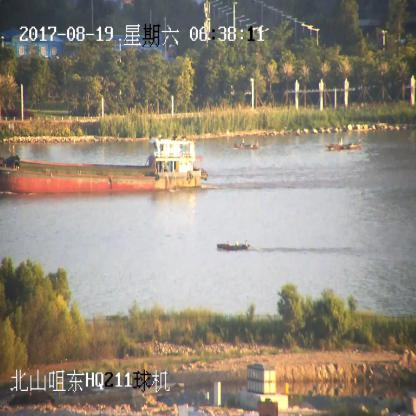Bulk Carrier: (0, 134, 205, 190)
